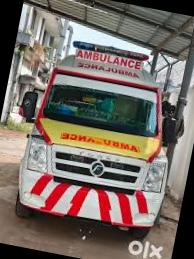ambulance: (0, 30, 193, 245)
